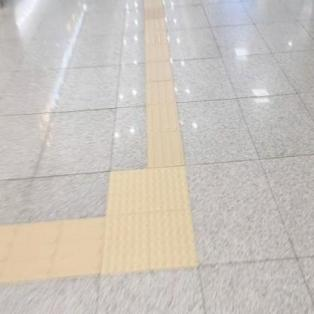Podoctatil: (84, 145, 221, 293), (0, 216, 103, 288), (143, 1, 185, 164)
